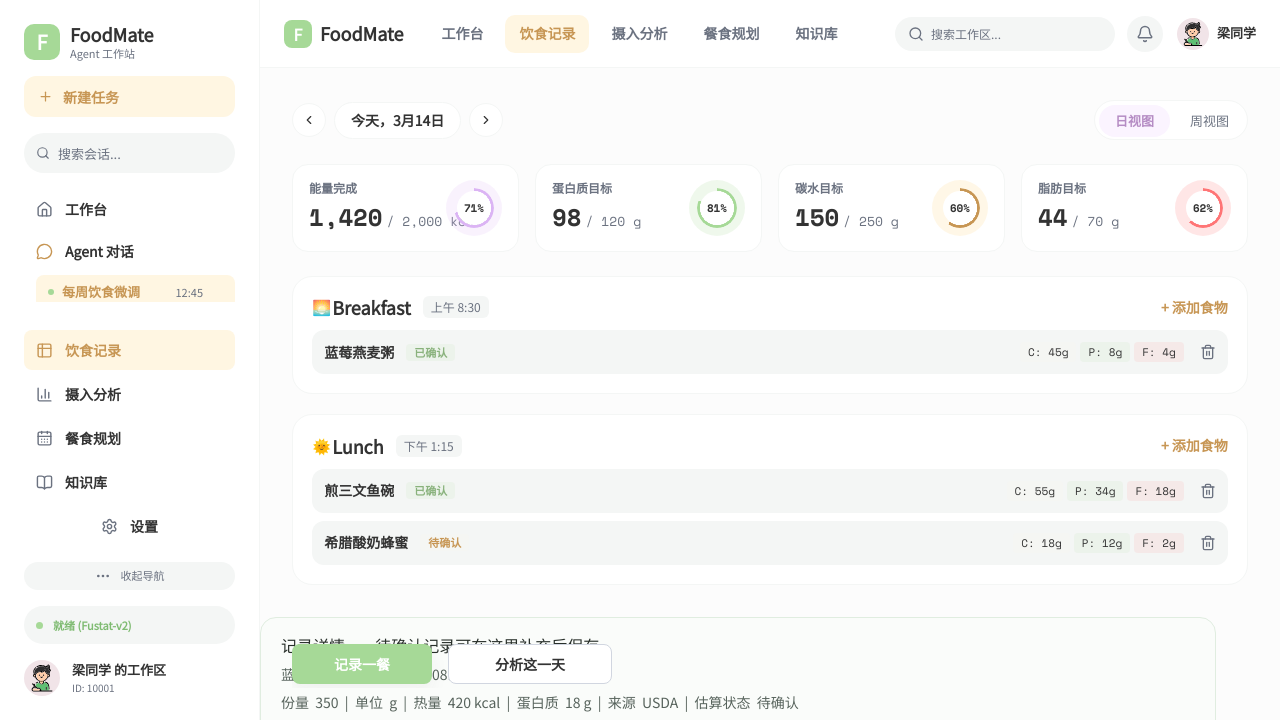
Test: DietRecordsPage › removes a food item through the shared icon button
The width and height of the screenshot is (1280, 720).
Click the button named "删除蓝莓燕麦粥".
click(1208, 352)  # box [1200,344,1216,360]
(page scrolled)
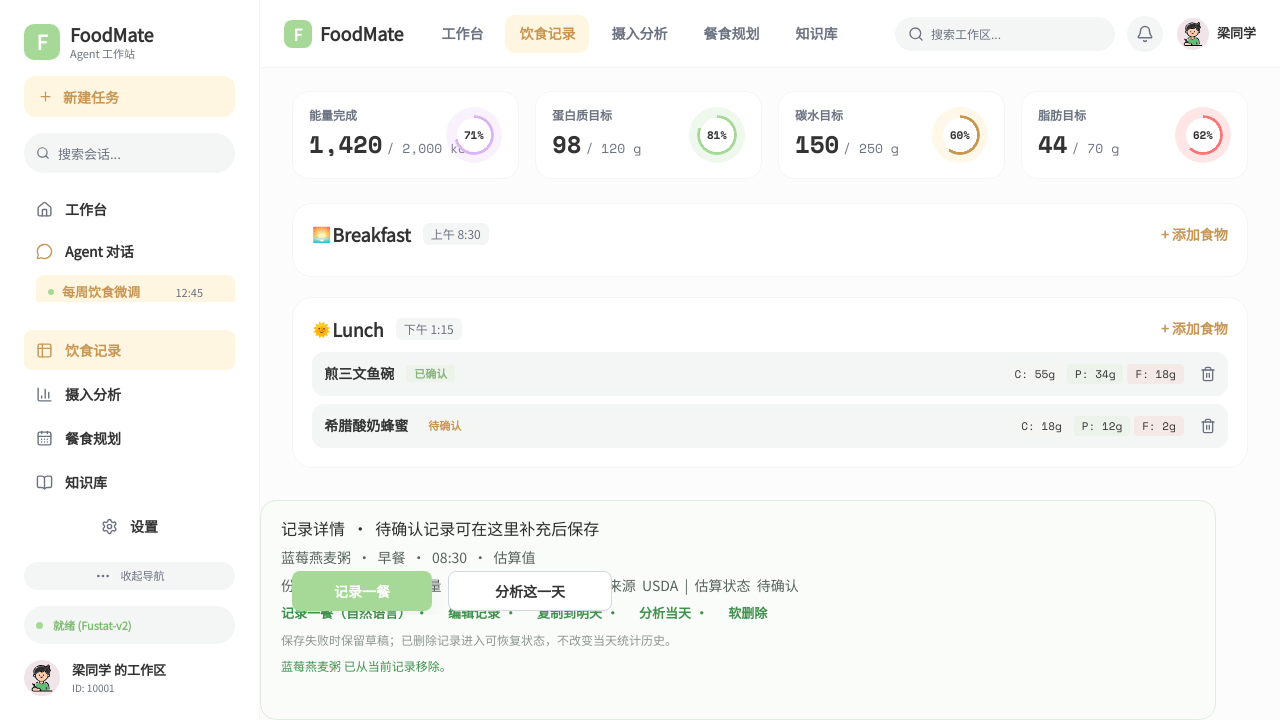
Expected: the message reads "蓝莓燕麦粥 已从当前记录移除。", [281,657,452,674]
